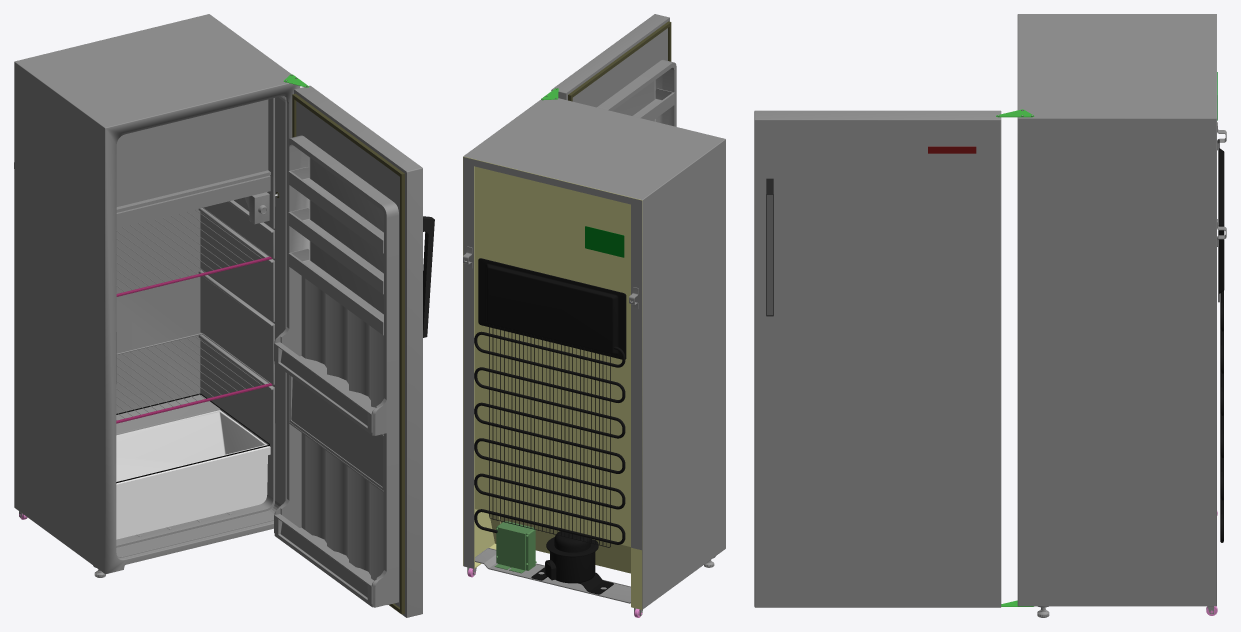
File: Birusa.fbx
The picture shows the model from 3 angles, left to right: view 1: azimuth 30°, elevation 25°; view 2: azimuth 150°, elevation 25°; view 3: azimuth 270°, elevation 25°; orthographic projection. The views are drawn at different scales.
Parts seen in each view (by area): view 1: Object002, Object001, Object003, Object004, Box004, Shape005, Object005, Shape003, Shape004, Rectangle001, Object008, Object009 (+6 smaller); view 2: Object002, Box006, Object001, Shape007, Shape008, Cylinder005, Box005, Line001, Box008, Object010, Line002; view 3: Object001, Object002, Box002, Shape008, Box006.
Boxes of the visible parts, x1,y1,x2,y2 form: Object002: [14, 14, 300, 574]; Object001: [286, 85, 422, 617]; Object003: [116, 410, 270, 539]; Object004: [116, 99, 268, 206]; Box004: [116, 393, 269, 483]; Shape005: [289, 375, 383, 490]; Object005: [116, 175, 270, 228]; Shape003: [274, 342, 372, 432]; Shape004: [274, 514, 372, 604]; Rectangle001: [116, 333, 272, 423]; Object008: [288, 248, 383, 335]; Object009: [288, 207, 383, 294]; Object002: [463, 98, 725, 609]; Box006: [478, 258, 626, 359]; Object001: [551, 14, 676, 126]; Shape007: [489, 324, 610, 547]; Shape008: [474, 331, 625, 544]; Cylinder005: [545, 531, 598, 583]; Box005: [494, 521, 536, 573]; Line001: [475, 548, 630, 603]; Box008: [585, 226, 624, 257]; Object010: [632, 88, 674, 120]; Line002: [531, 567, 613, 594]; Object001: [754, 110, 1001, 607]; Object002: [1017, 14, 1216, 606]; Box002: [766, 178, 773, 316]; Shape008: [1220, 291, 1223, 542]; Box006: [1218, 139, 1224, 302].
Size of the model in its own units: 23.8 by 48.65 by 41.39.
